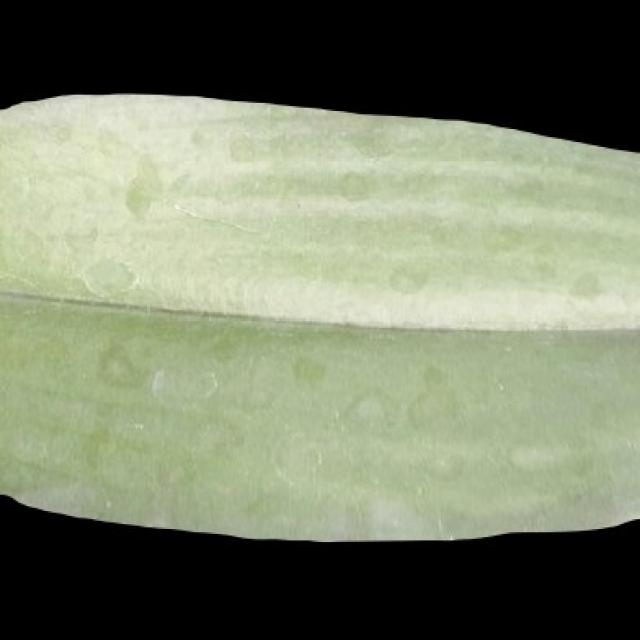mite: (91, 333, 475, 441), (116, 127, 261, 222), (220, 127, 263, 170), (122, 180, 152, 219), (227, 134, 255, 163), (420, 361, 446, 387)
spots: (0, 88, 638, 537)
